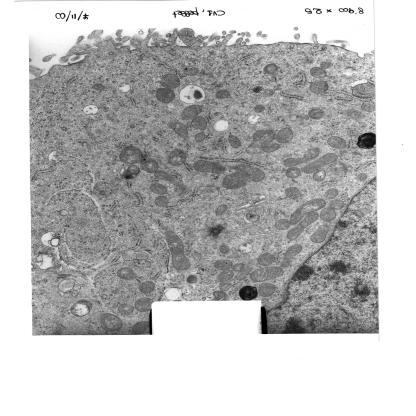mitochondria: (164, 230, 191, 271), (288, 198, 327, 225), (286, 212, 318, 240), (219, 266, 252, 291), (246, 130, 277, 156), (282, 147, 321, 166), (302, 154, 338, 174), (234, 163, 265, 182), (277, 244, 303, 266), (251, 266, 285, 282), (192, 159, 226, 174), (118, 146, 144, 165), (223, 172, 249, 190), (168, 120, 190, 139), (100, 312, 122, 331), (166, 148, 188, 166), (181, 104, 204, 121), (310, 224, 330, 243), (154, 87, 176, 104), (116, 265, 139, 281), (275, 127, 295, 144), (160, 74, 182, 89), (326, 135, 348, 150), (256, 282, 277, 297), (138, 159, 160, 173), (256, 252, 276, 267), (309, 80, 330, 94), (134, 296, 152, 312), (285, 186, 303, 202), (319, 208, 337, 223), (214, 270, 236, 282), (191, 116, 208, 131), (132, 320, 150, 334), (154, 170, 174, 182), (348, 109, 366, 122), (140, 280, 156, 294), (118, 302, 134, 316), (310, 66, 327, 79), (150, 183, 168, 195), (274, 218, 292, 230), (153, 195, 170, 207), (285, 166, 302, 178), (214, 259, 234, 269), (228, 135, 242, 149), (323, 188, 340, 199), (328, 199, 345, 210), (313, 170, 328, 181), (262, 143, 280, 152), (183, 66, 199, 76), (193, 131, 206, 143), (362, 100, 375, 112), (215, 89, 230, 99), (218, 244, 232, 254), (215, 204, 229, 214), (318, 61, 334, 69), (92, 82, 106, 91), (356, 172, 368, 181), (233, 262, 244, 271)
